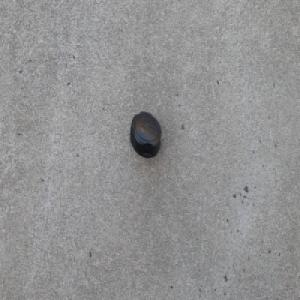FuelCap: (129, 110, 161, 159)
